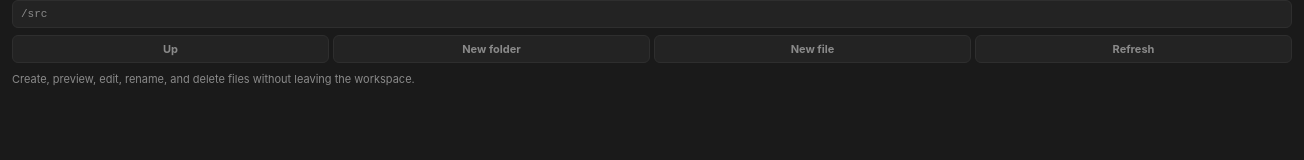
Test: WorkspaceFilePanel - Folder Operations Unit Tests › Up button disabled at root (Requirement 4.4, 4.5) › should navigate to parent directory when Up button is clicked
The image size is (1304, 160).
Expected: the text "/src" is shown, [12, 0, 1292, 28]
Click the button "Up" at (170, 49), box [12, 35, 329, 63]
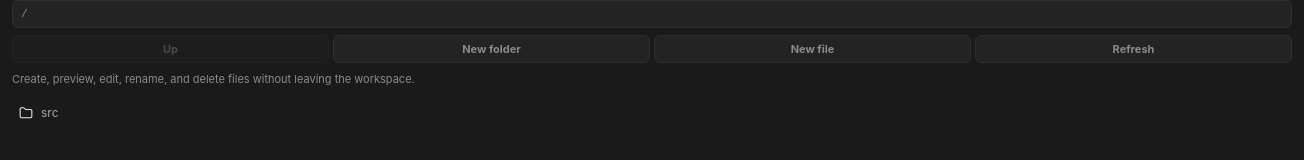
Expected: the text "src" is shown, [41, 105, 58, 120]
Result: the text "/src" is gone
